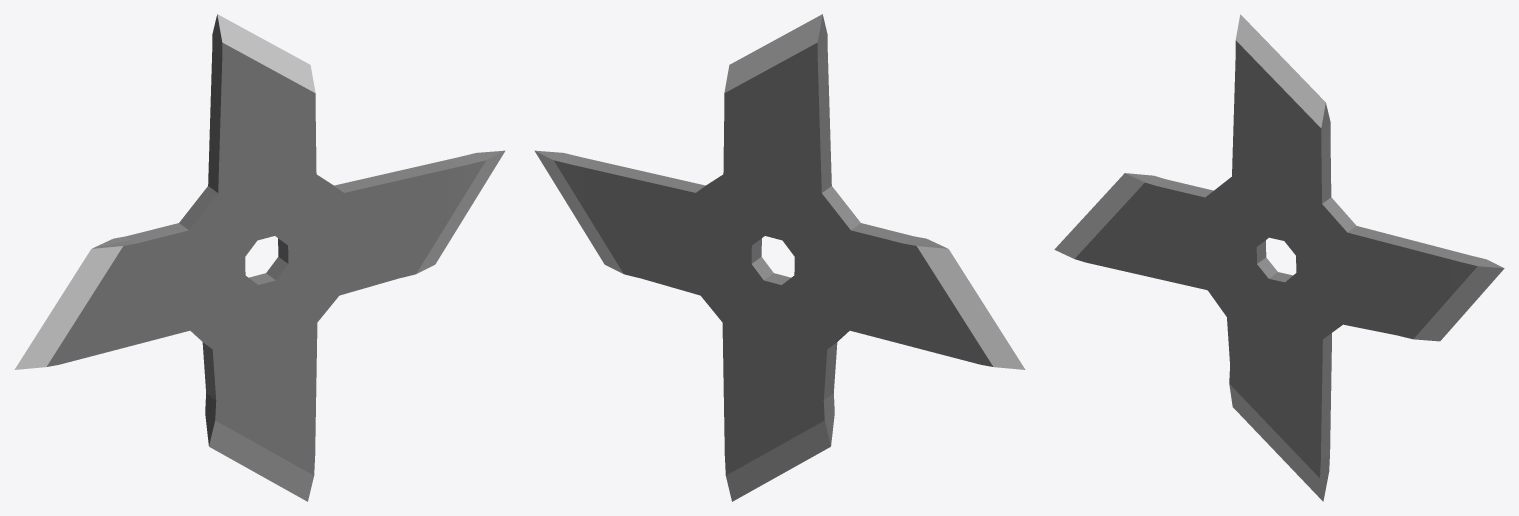
The model's file is Shuriken_1.fbx.
3 renders of one model, left to right at view 1: azimuth 30°, elevation 25°; view 2: azimuth 150°, elevation 25°; view 3: azimuth 330°, elevation 25°, orthographic. The views are drawn at different scales.
Visible parts, largest first — view 1: Circle; view 2: Circle; view 3: Circle.
Part boxes in pixels (x1=…): Circle: x1=14, y1=14, x2=505, y2=501; Circle: x1=534, y1=14, x2=1025, y2=501; Circle: x1=1054, y1=14, x2=1504, y2=501.
Bounding box in the file's own units: 12.54 × 12.44 × 0.4455.
